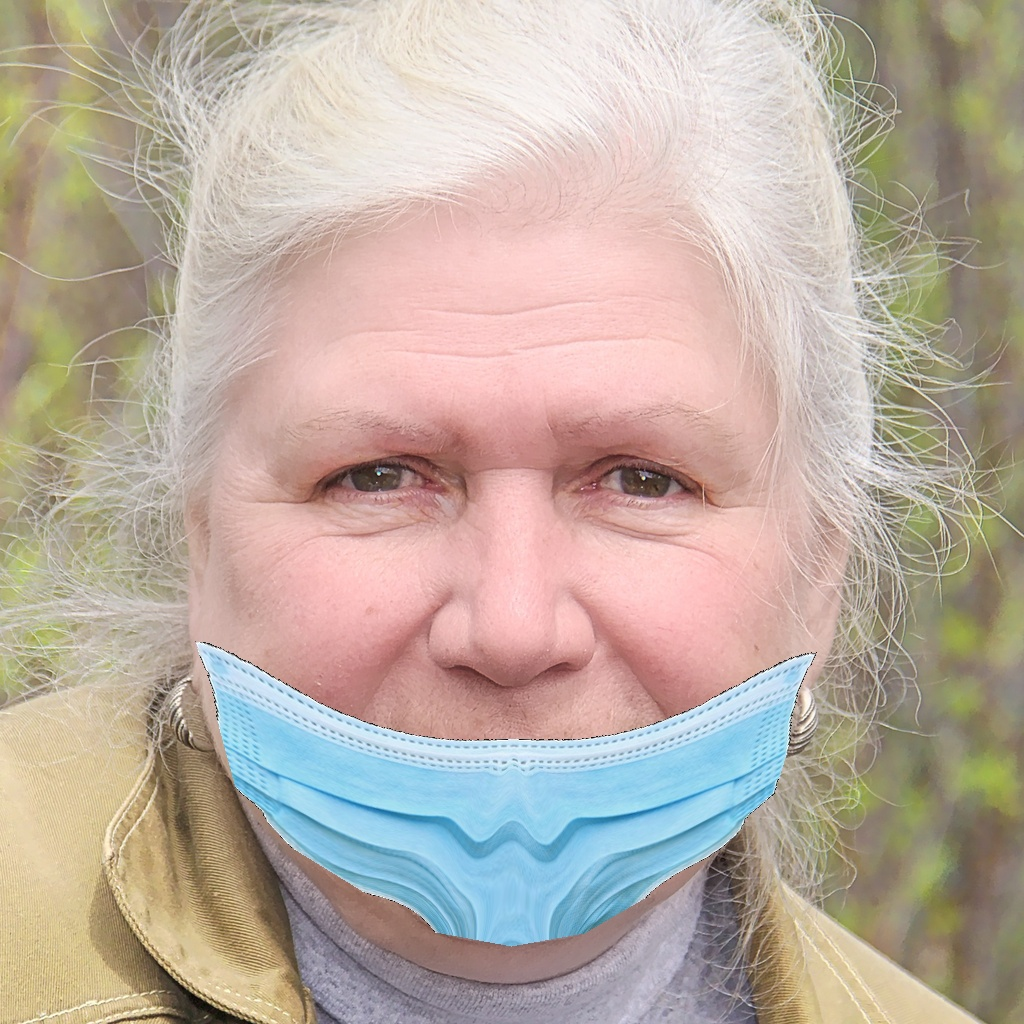mask_weared_incorrect: (170, 377, 850, 971)
